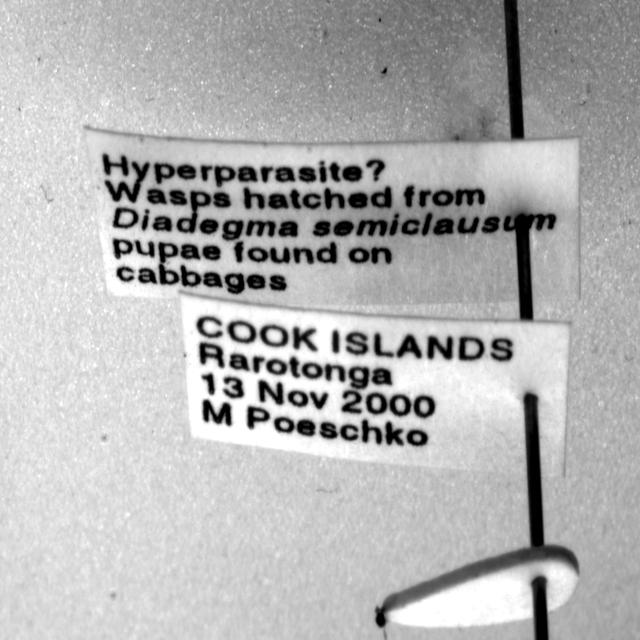typed_label: (85, 129, 580, 304), (181, 296, 570, 476)
